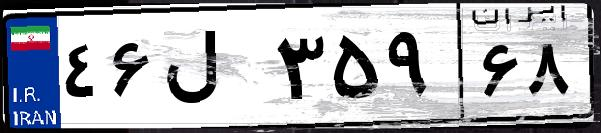3: (270, 28, 330, 110)
4: (57, 26, 110, 100)
5: (330, 28, 385, 110)
6: (475, 38, 525, 113), (110, 28, 158, 98)
8: (525, 38, 570, 115)
9: (385, 28, 445, 110)
ل: (158, 20, 270, 120)
